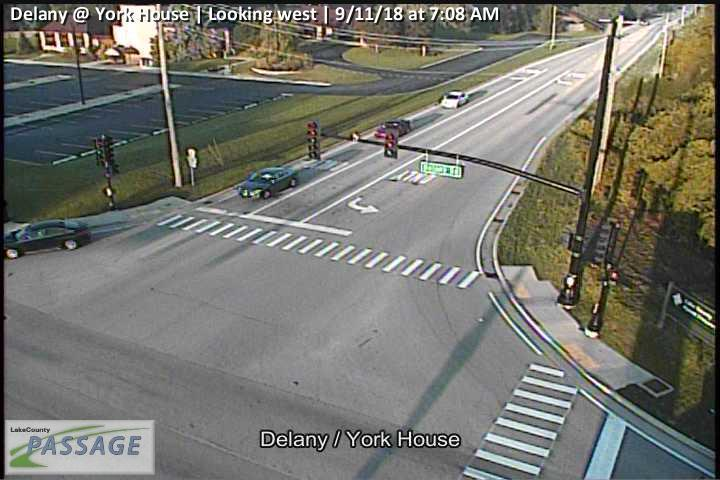Sedan: (4, 220, 91, 259), (238, 167, 297, 200), (375, 120, 411, 139), (439, 90, 469, 109)
